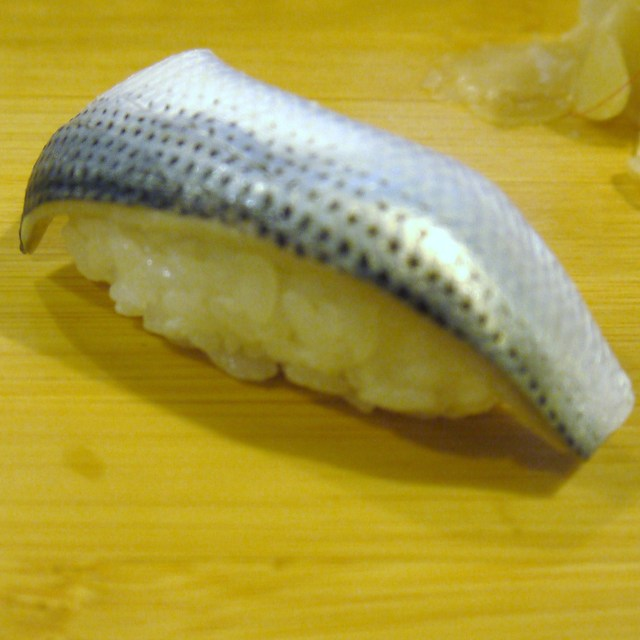spotted-shad: (15, 45, 639, 473)
